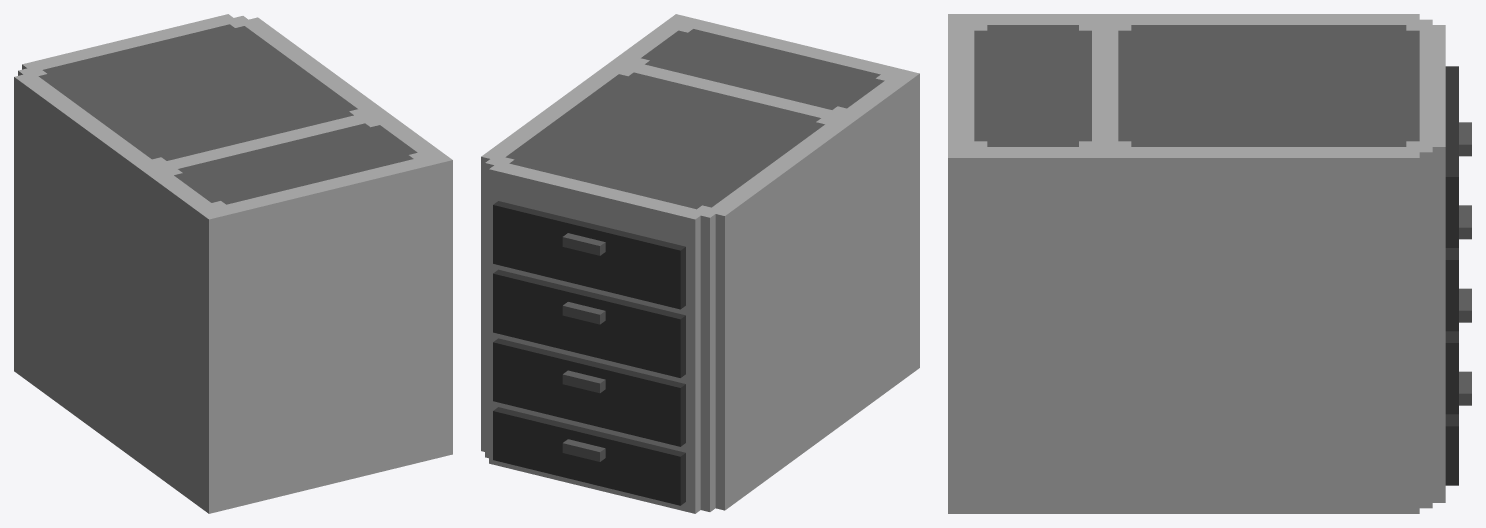
Rendered from Environment_UntiledLabs_Furniture-0.obj.
3 views of the same model, side by side, from view 1: azimuth 30°, elevation 25°; view 2: azimuth 150°, elevation 25°; view 3: azimuth 270°, elevation 25° (orthographic). The views are drawn at different scales.
Bounding box in the file's own units: 2.6 × 3 × 4.
1 material, 1 textured.
